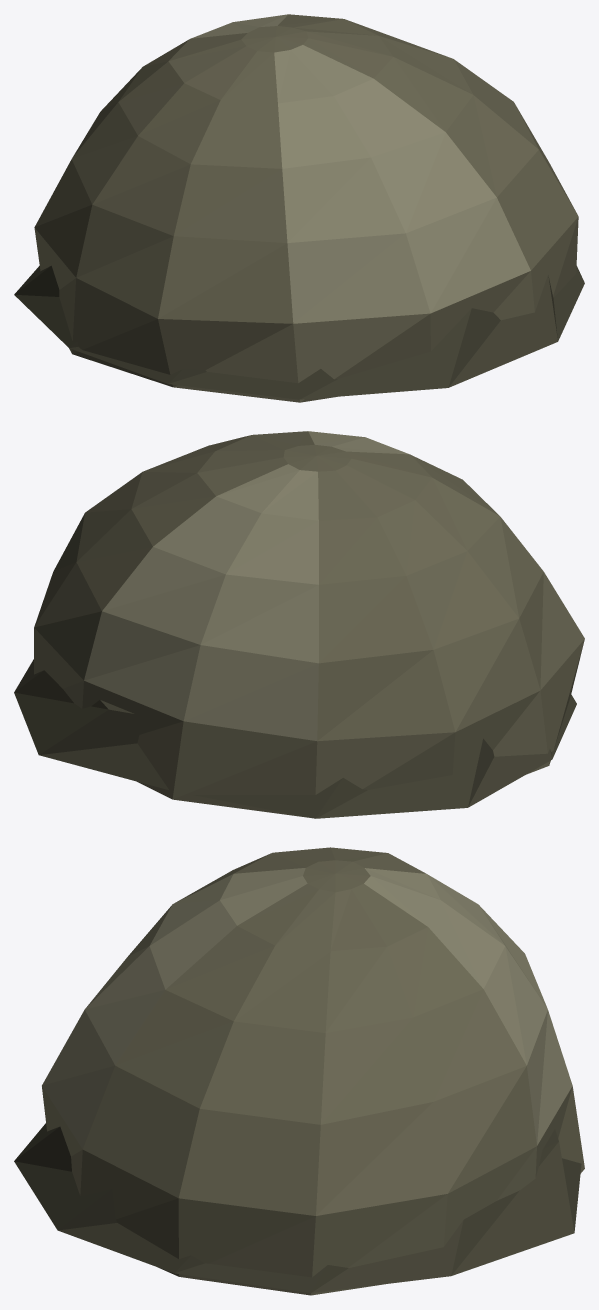
The model's file is cocoon_megascarab_2.obj.
3 renders of one model, top to bottom at view 1: azimuth 30°, elevation 25°; view 2: azimuth 150°, elevation 25°; view 3: azimuth 270°, elevation 25°, orthographic. The views are drawn at different scales.
Parts seen in each view (by area): view 1: cocoon_megascarab_2; view 2: cocoon_megascarab_2; view 3: cocoon_megascarab_2.
Part boxes in pixels (box(x1,y1,x2,y2)): cocoon_megascarab_2: box(14, 14, 584, 402); cocoon_megascarab_2: box(14, 431, 584, 818); cocoon_megascarab_2: box(14, 847, 584, 1295).
Bounding box in the file's own units: 0.7599 × 0.38 × 0.6994.
